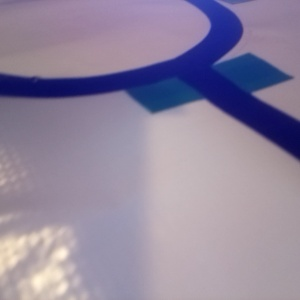bottom_right: (91, 47, 179, 94)
top_left: (211, 158, 300, 300), (247, 37, 300, 75)
